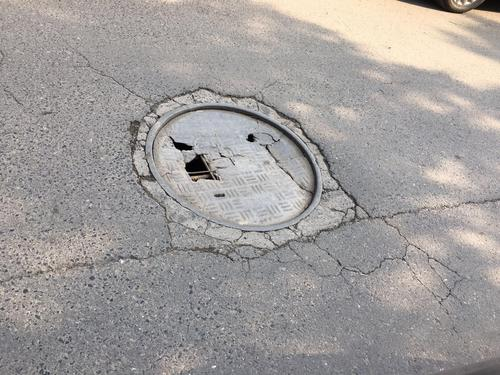broke: (129, 84, 357, 257)
